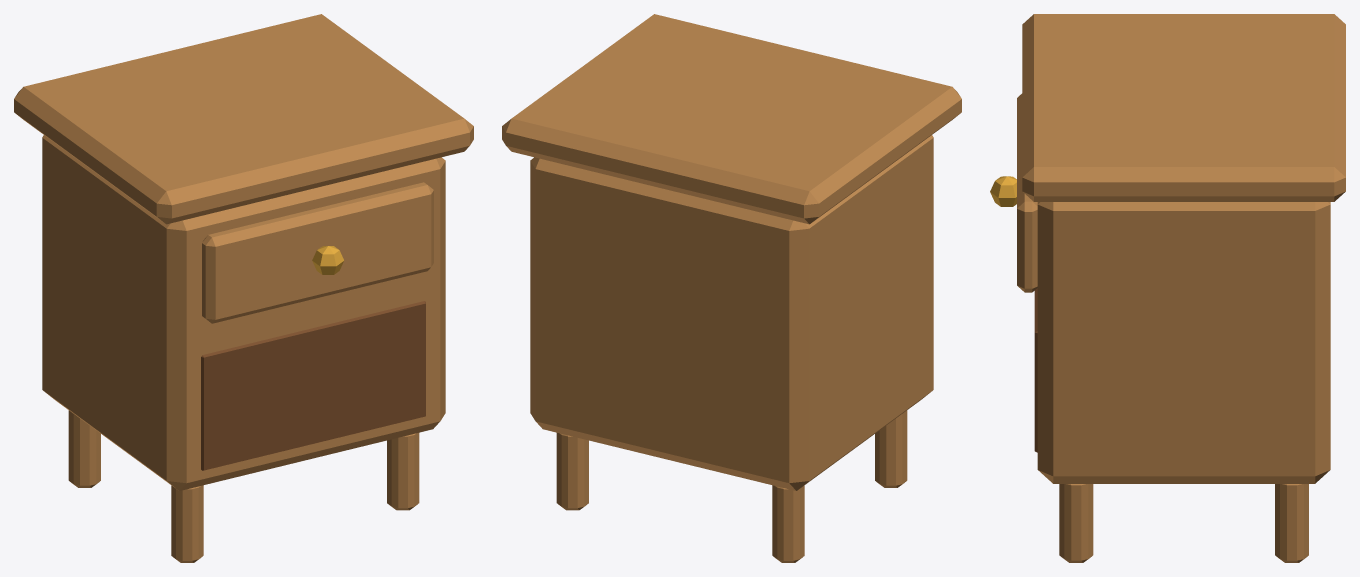
File: side_table.glb
3 renders of one model, left to right at view 1: azimuth 30°, elevation 25°; view 2: azimuth 150°, elevation 25°; view 3: azimuth 270°, elevation 25°, orthographic. The views are drawn at different scales.
Parts seen in each view (by area): view 1: side_table; view 2: side_table; view 3: side_table.
Part boxes in pixels (left/top/right/bottom): side_table: left=14, top=14, right=473, bottom=562; side_table: left=502, top=14, right=961, bottom=562; side_table: left=990, top=14, right=1345, bottom=562.
Size of the model in its own units: 0.5 by 0.59 by 0.462.
